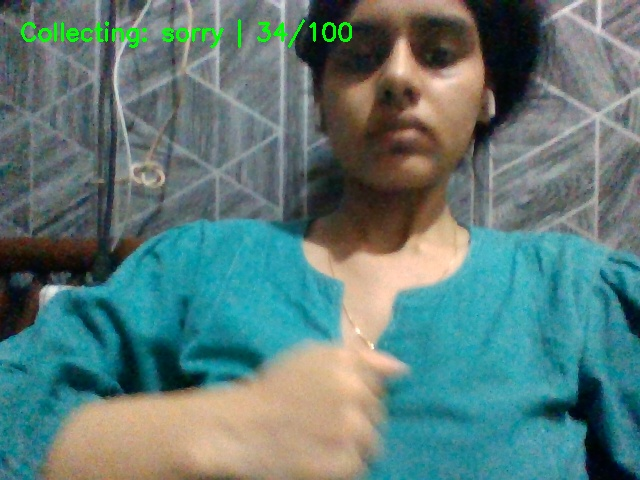sorry: (193, 321, 470, 480)
